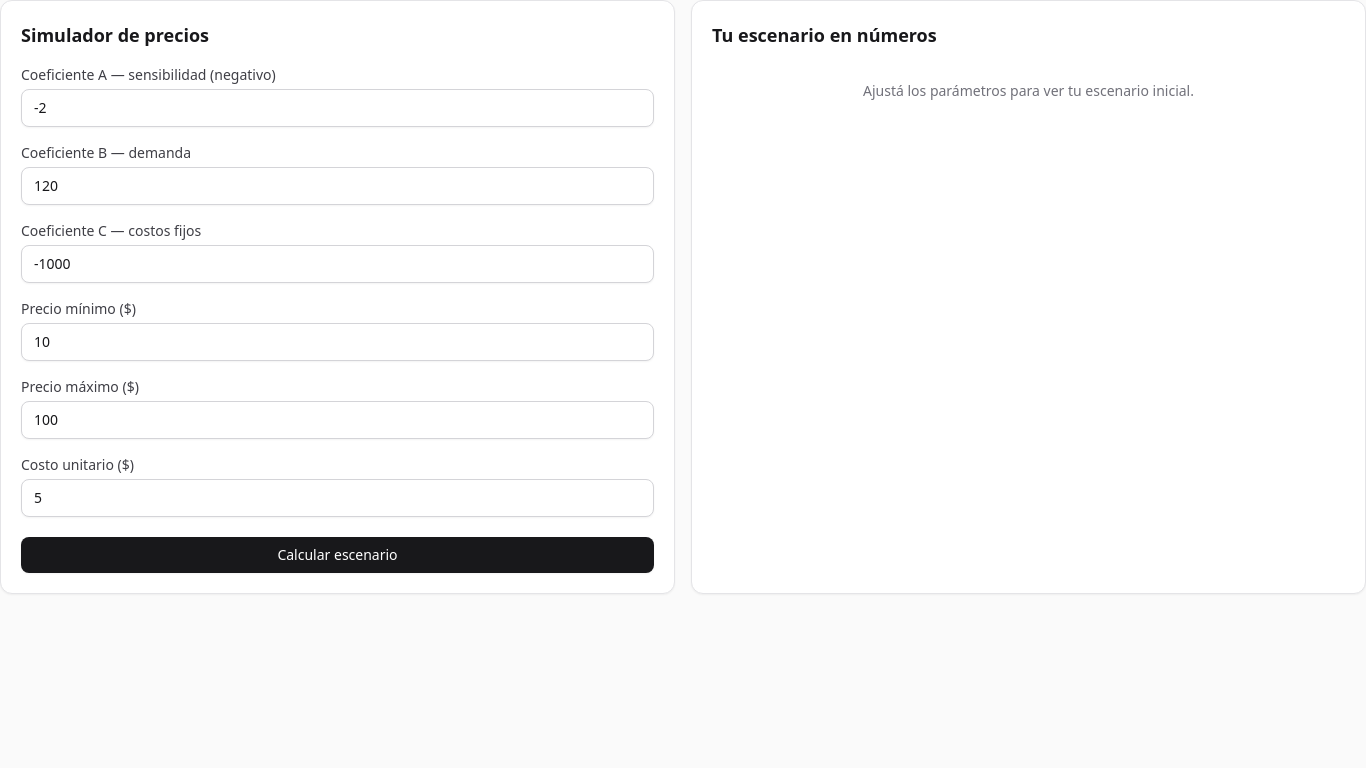
Test: LeadMagnetForm — contrato honesto › fetch con network error → muestra mensaje de conexión
Step 1. Click the button with test id "lm-calc" → (338, 555), box [21,537,654,573]
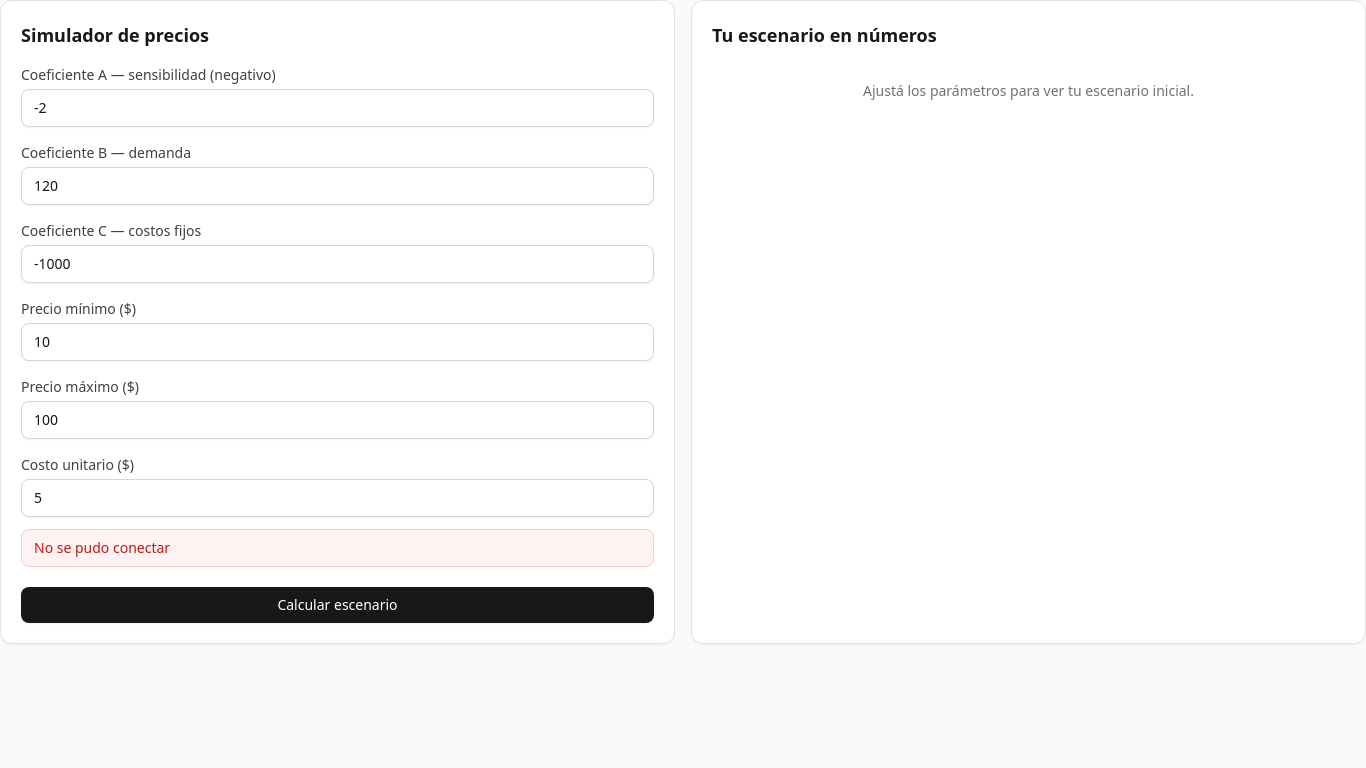
Now the message "No se pudo conectar" is shown, box [21,529,654,567]
Now the message with test id "lm-error" reads "No se pudo conectar", box [34,538,170,557]
